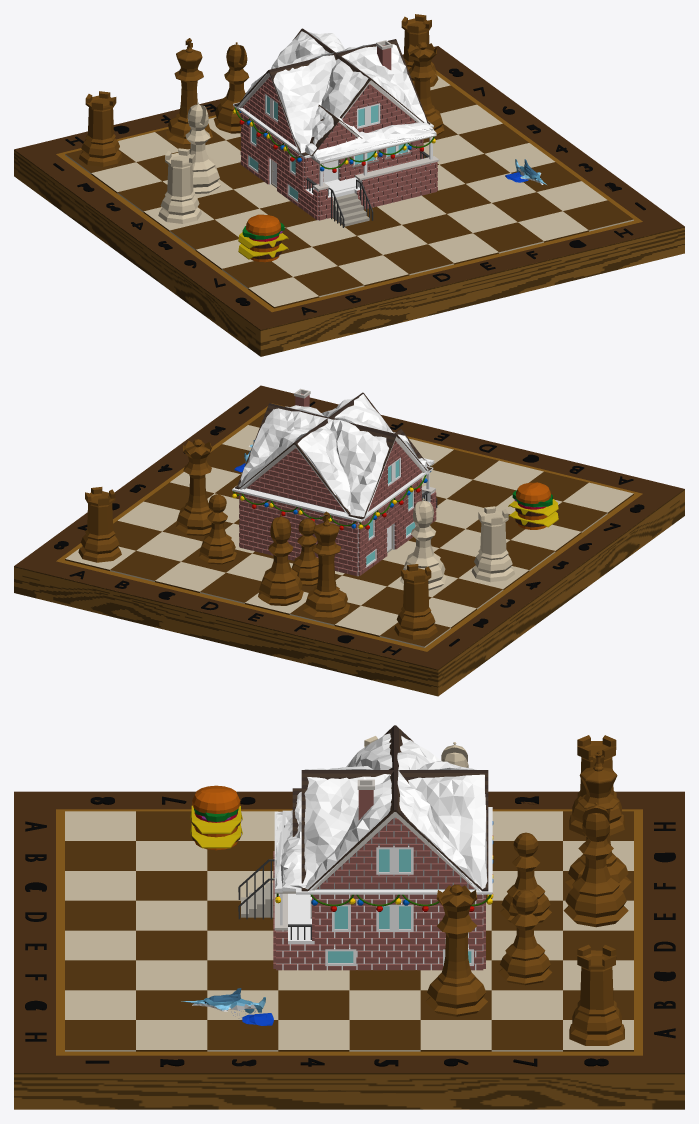
3 views of the same model, one above another, from view 1: azimuth 30°, elevation 25°; view 2: azimuth 150°, elevation 25°; view 3: azimuth 270°, elevation 25° (orthographic). The views are drawn at different scales.
Parts seen in each view (by area): view 1: Cube.002, Cube.1419, OBJRANDOM_HAMBURGER; view 2: Cube.002, Cube.1419, OBJRANDOM_HAMBURGER; view 3: Cube.002, Cube.1419, OBJRANDOM_HAMBURGER, ANIMAL_PEZ_ESPADA.
Part boxes in pixels (left/top/right/bottom): Cube.002: left=14, top=14, right=684, bottom=356; Cube.1419: left=232, top=28, right=439, bottom=227; OBJRANDOM_HAMBURGER: left=238, top=214, right=288, bottom=262; Cube.002: left=14, top=385, right=684, bottom=696; Cube.1419: left=232, top=388, right=437, bottom=576; OBJRANDOM_HAMBURGER: left=508, top=482, right=558, bottom=529; Cube.002: left=14, top=735, right=684, bottom=1109; Cube.1419: left=238, top=725, right=493, bottom=970; OBJRANDOM_HAMBURGER: left=190, top=785, right=242, bottom=850; ANIMAL_PEZ_ESPADA: left=181, top=988, right=273, bottom=1025.
Bounding box in the file's own units: 3981 × 1585 × 4012.
36 materials, 2 textured.
